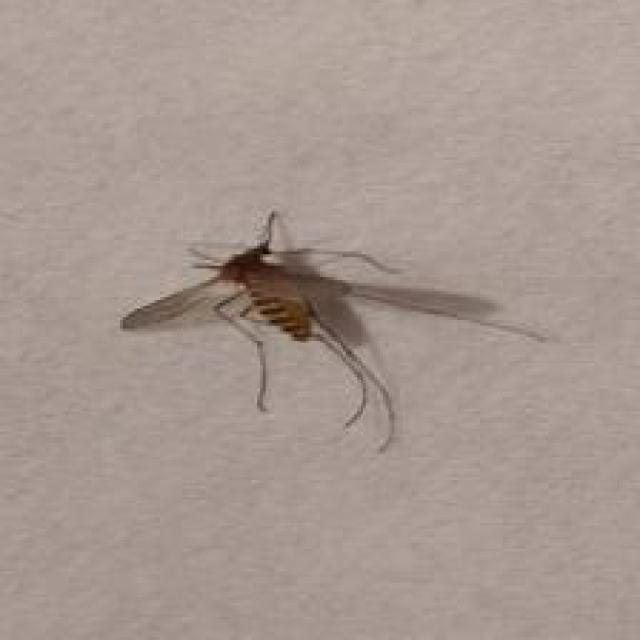Culex: (119, 209, 550, 454)
